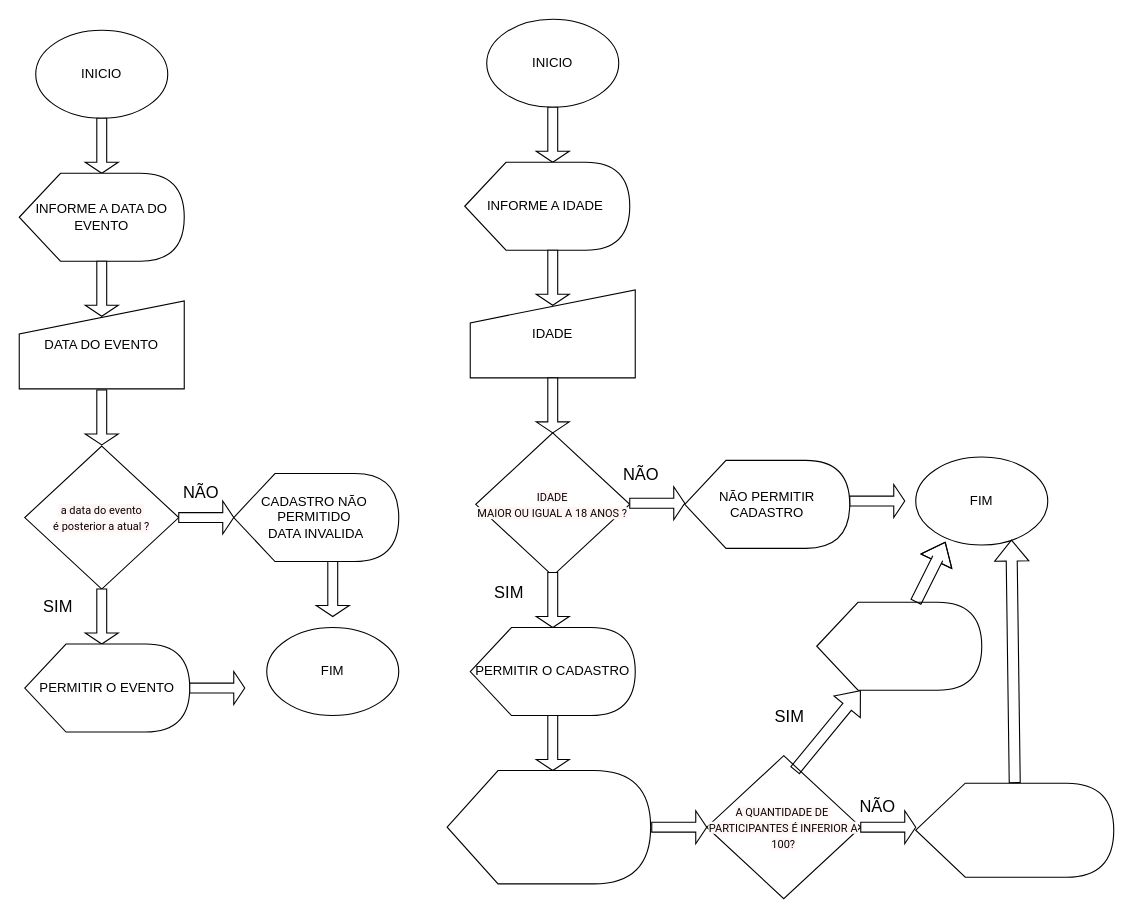
This 1133x919 diagram has some shape labels left out. The shapes that lost their labels are listed below. From the top down, each one's centre as x and y in pixels, then its label:
At pixel 899 645: "CADASTRO REALIZADO".
At pixel 548 826: "LISTAR PARTICIPANTES E PALESTRAS POR EVENTO".
At pixel 1014 829: "CADASTRO NÃO SERÁ REALIZADO POR TER EXCEDIDO O LIMITE DE PARTICIPANTES".
